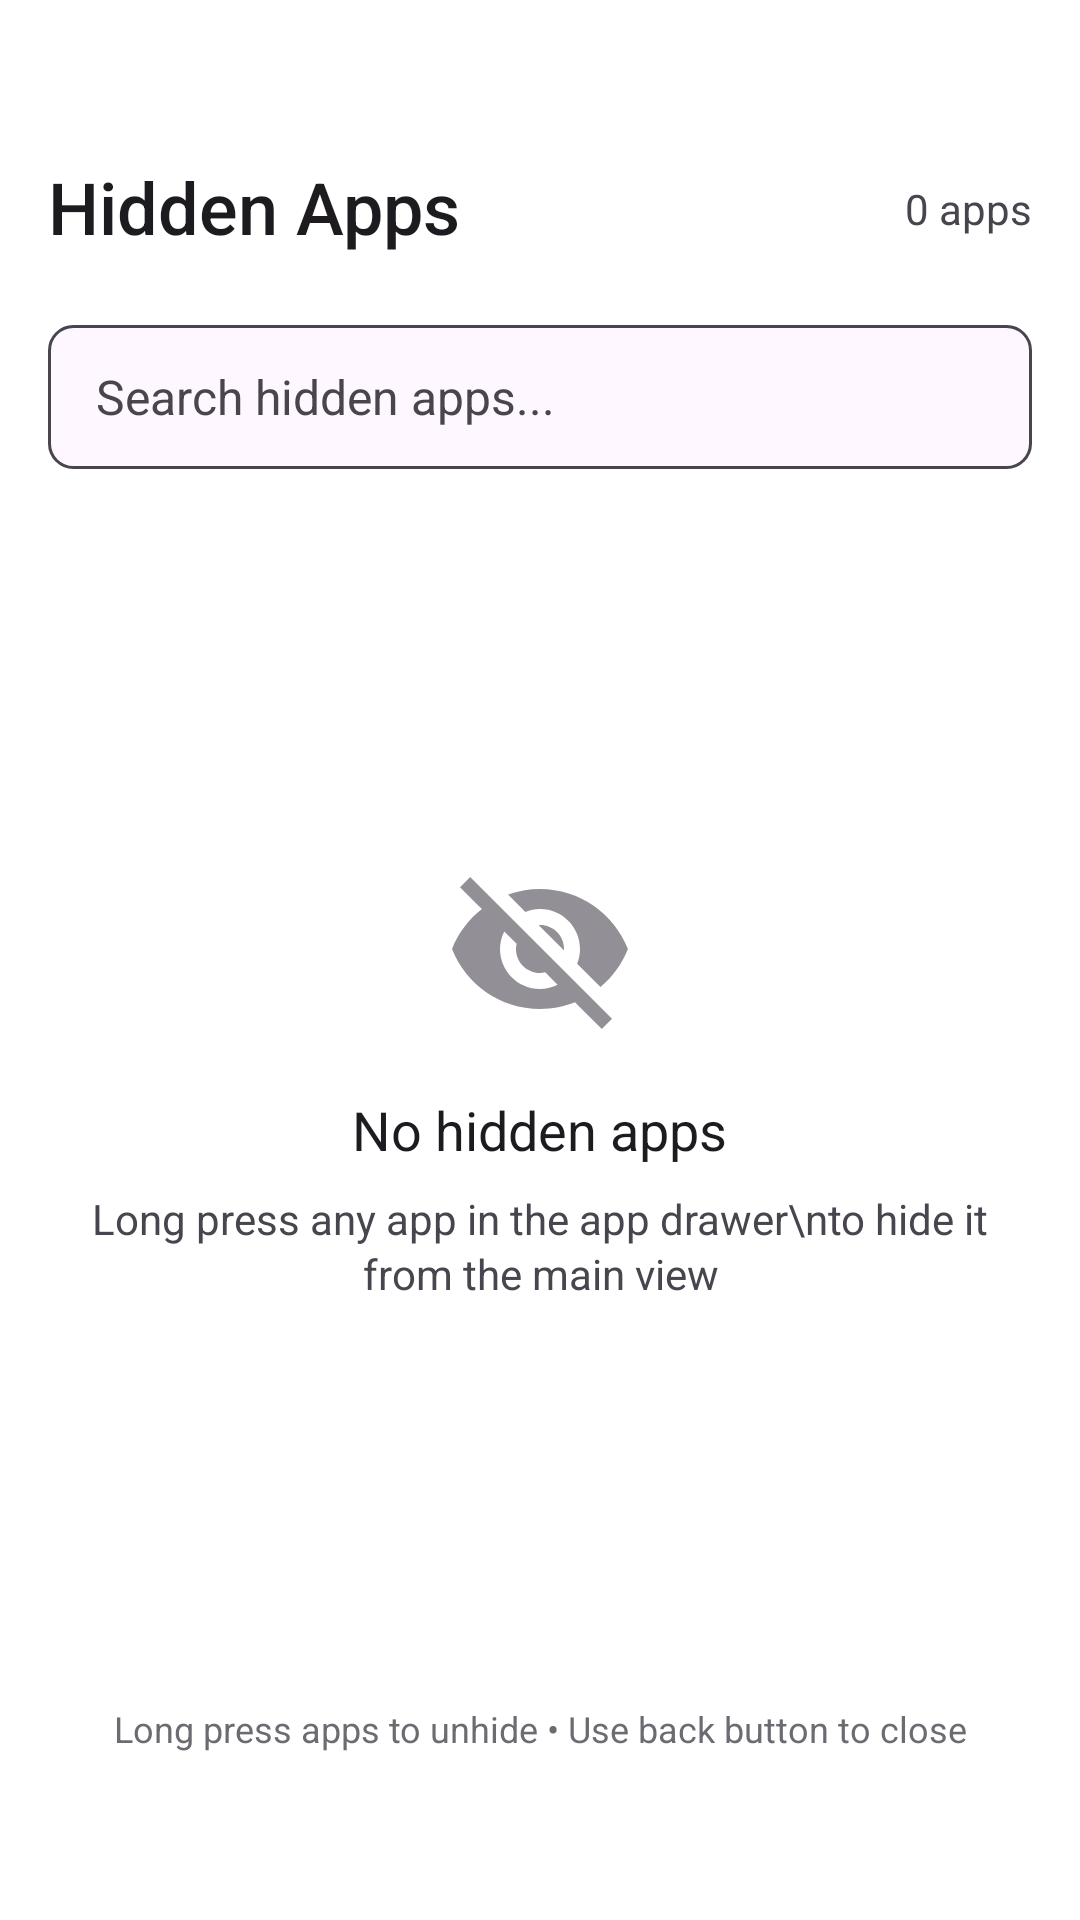

Point at icon controls on the screen. Image size 1080*1920, points as (x=x, y=y).
visibility off: (x=540, y=953)
